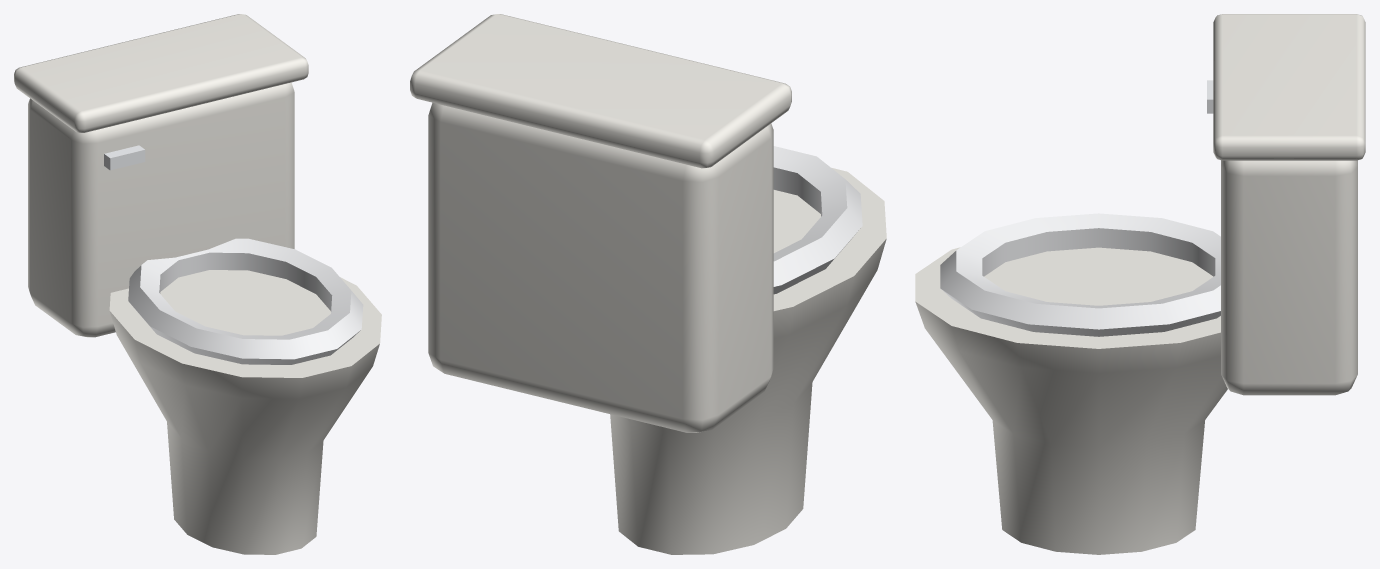
The model's file is Toilet.fbx.
The picture shows the model from 3 angles, left to right: view 1: azimuth 30°, elevation 25°; view 2: azimuth 150°, elevation 25°; view 3: azimuth 270°, elevation 25°; orthographic projection. The views are drawn at different scales.
Parts seen in each view (by area): view 1: Toilet; view 2: Toilet; view 3: Toilet.
Boxes of the visible parts, box(x1,y1,x2,y2) form: Toilet: box(14, 14, 381, 554); Toilet: box(410, 14, 886, 554); Toilet: box(915, 14, 1365, 554).
Size of the model in its own units: 2 by 3.24 by 2.95.
Materials: 1 (1 with a texture image).
